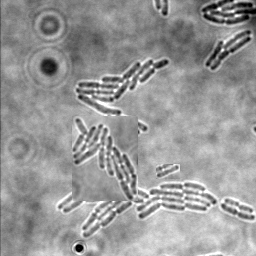Dividing: (219, 204, 255, 222), (223, 199, 253, 215)
Microcolony: (57, 167, 216, 238), (75, 59, 169, 136), (72, 116, 138, 201), (204, 30, 251, 72), (200, 1, 255, 26)
Rod: (156, 164, 180, 179)
